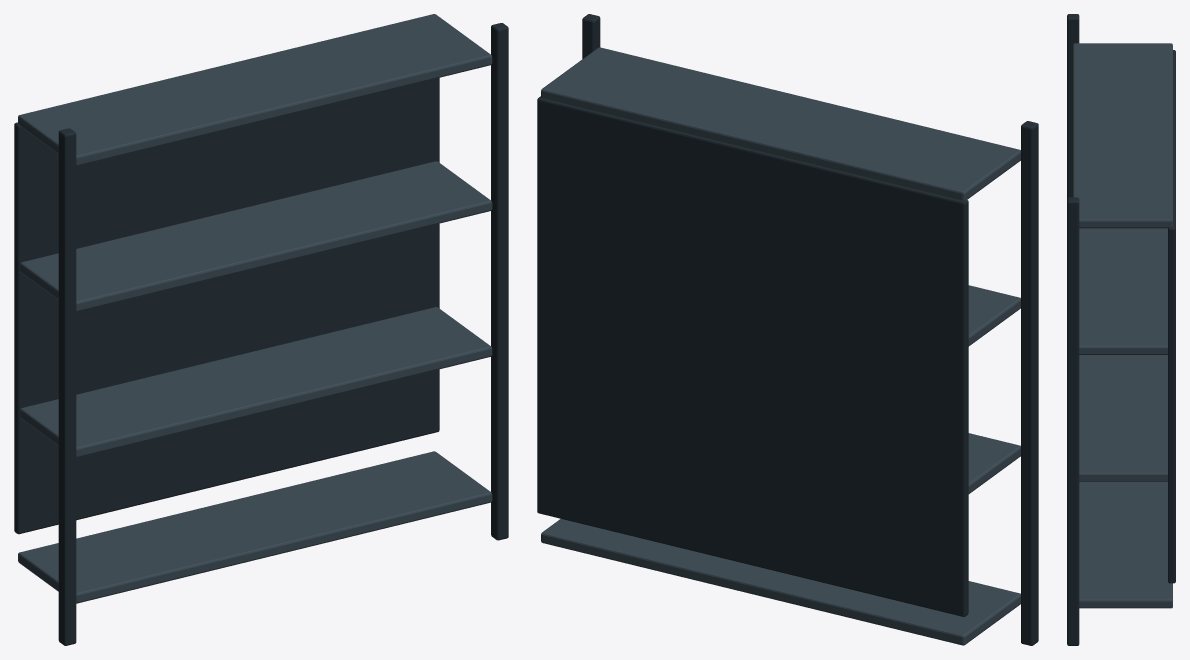
Rendered from CC_S16_P2_Furniture_WallShelf_LOD0.fbx.
3 views of the same model, side by side, from view 1: azimuth 30°, elevation 25°; view 2: azimuth 150°, elevation 25°; view 3: azimuth 270°, elevation 25° (orthographic). The views are drawn at different scales.
Parts seen in each view (by area): view 1: CC_S16_P2_Furniture_WallShelf_LOD0, CC_S16_P2_Furniture_WallShelf_LOD0_Back, CC_S16_P2_Furniture_WallShelf_LOD0_Post, CC_S16_P2_Furniture_WallShelf_LOD0_Post.001; view 2: CC_S16_P2_Furniture_WallShelf_LOD0_Back, CC_S16_P2_Furniture_WallShelf_LOD0, CC_S16_P2_Furniture_WallShelf_LOD0_Post, CC_S16_P2_Furniture_WallShelf_LOD0_Post.001; view 3: CC_S16_P2_Furniture_WallShelf_LOD0, CC_S16_P2_Furniture_WallShelf_LOD0_Post.001, CC_S16_P2_Furniture_WallShelf_LOD0_Back, CC_S16_P2_Furniture_WallShelf_LOD0_Post.
Part boxes in pixels (bbox=[...]): CC_S16_P2_Furniture_WallShelf_LOD0: bbox=[18, 14, 492, 603]; CC_S16_P2_Furniture_WallShelf_LOD0_Back: bbox=[14, 78, 439, 534]; CC_S16_P2_Furniture_WallShelf_LOD0_Post: bbox=[58, 128, 76, 645]; CC_S16_P2_Furniture_WallShelf_LOD0_Post.001: bbox=[491, 23, 508, 540]; CC_S16_P2_Furniture_WallShelf_LOD0_Back: bbox=[537, 96, 968, 616]; CC_S16_P2_Furniture_WallShelf_LOD0: bbox=[541, 47, 1020, 645]; CC_S16_P2_Furniture_WallShelf_LOD0_Post: bbox=[1021, 121, 1038, 645]; CC_S16_P2_Furniture_WallShelf_LOD0_Post.001: bbox=[582, 14, 600, 58]; CC_S16_P2_Furniture_WallShelf_LOD0: bbox=[1072, 43, 1172, 608]; CC_S16_P2_Furniture_WallShelf_LOD0_Post.001: bbox=[1067, 197, 1079, 645]; CC_S16_P2_Furniture_WallShelf_LOD0_Back: bbox=[1168, 50, 1175, 583]; CC_S16_P2_Furniture_WallShelf_LOD0_Post: bbox=[1067, 14, 1079, 198].
Size of what is drawn, in the model's own units: 2 by 2.2 by 0.4875.
